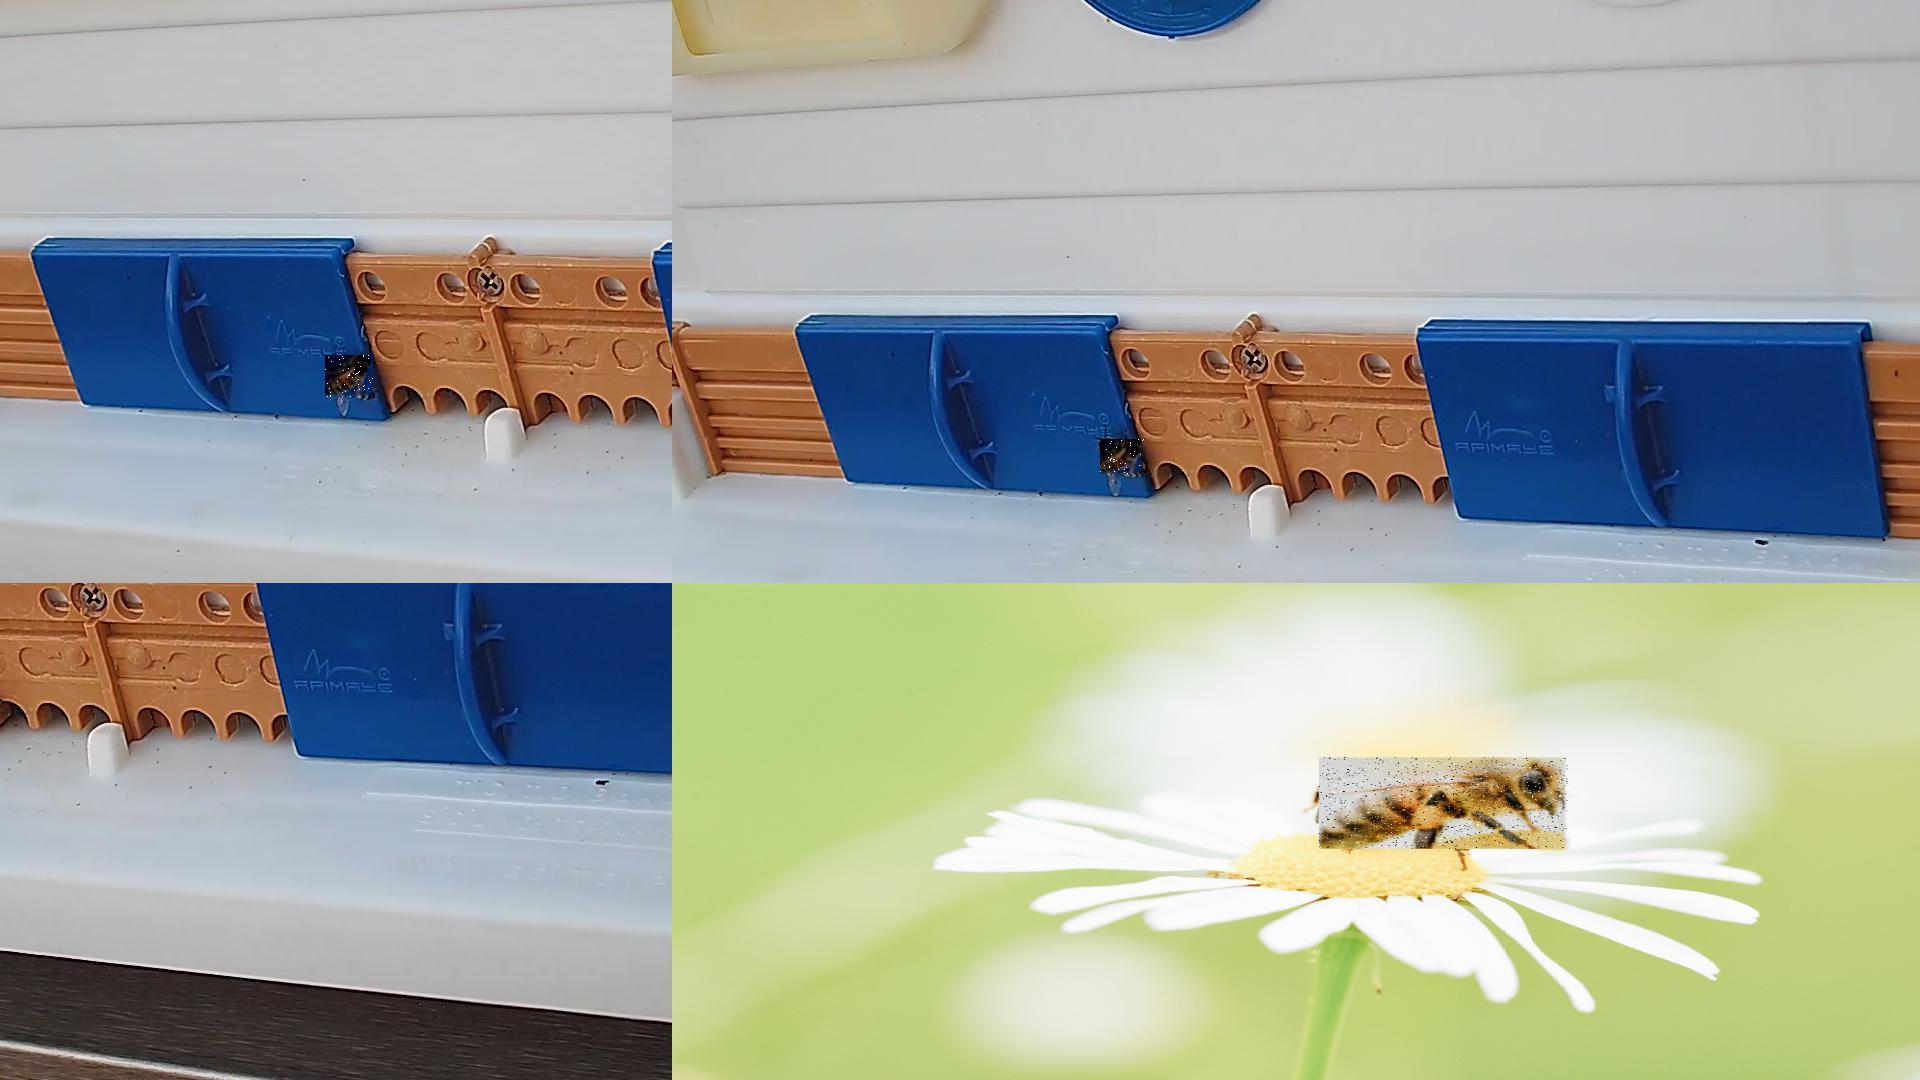bee: (326, 356, 375, 400), (1101, 439, 1146, 477)
pollenbee: (1320, 757, 1569, 849)
